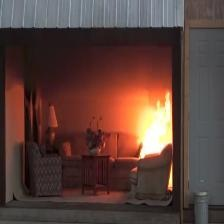fire: (133, 82, 179, 161)
